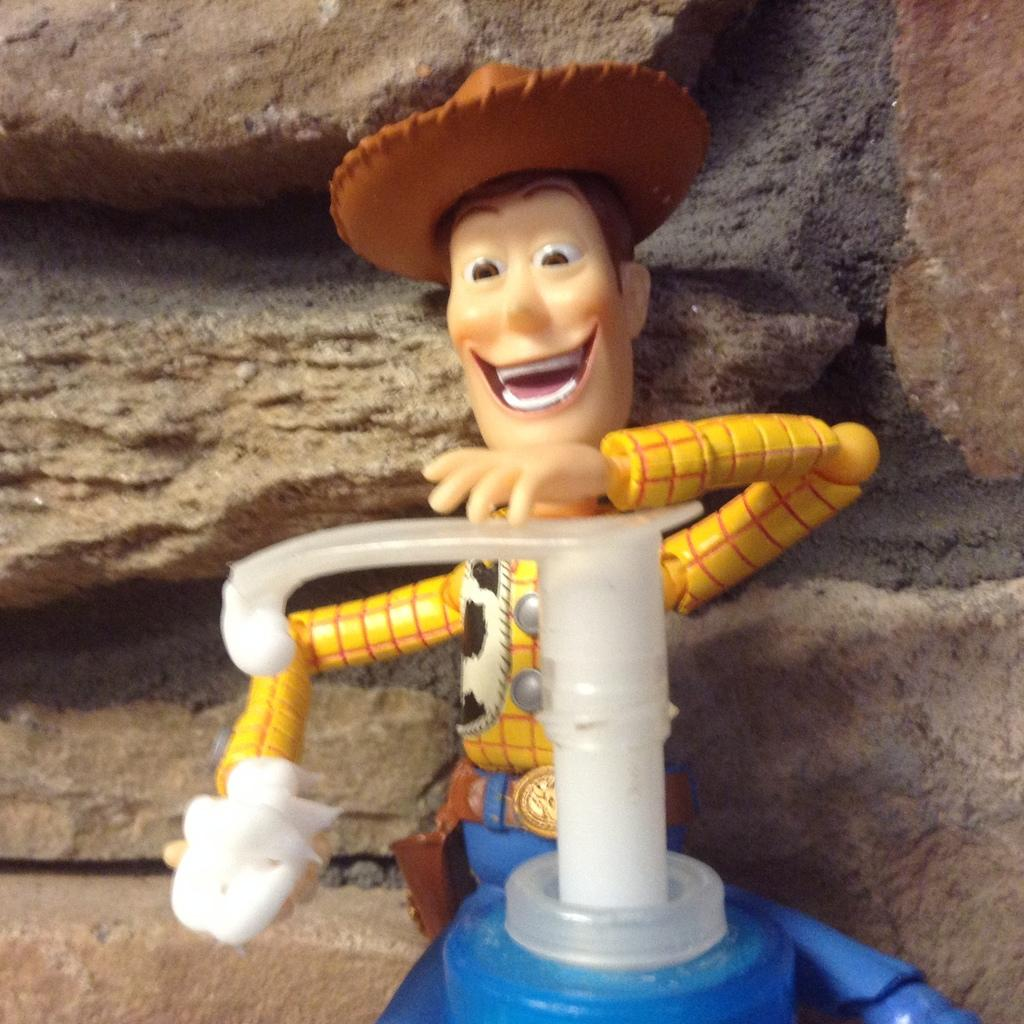Hat: (330, 60, 710, 288)
